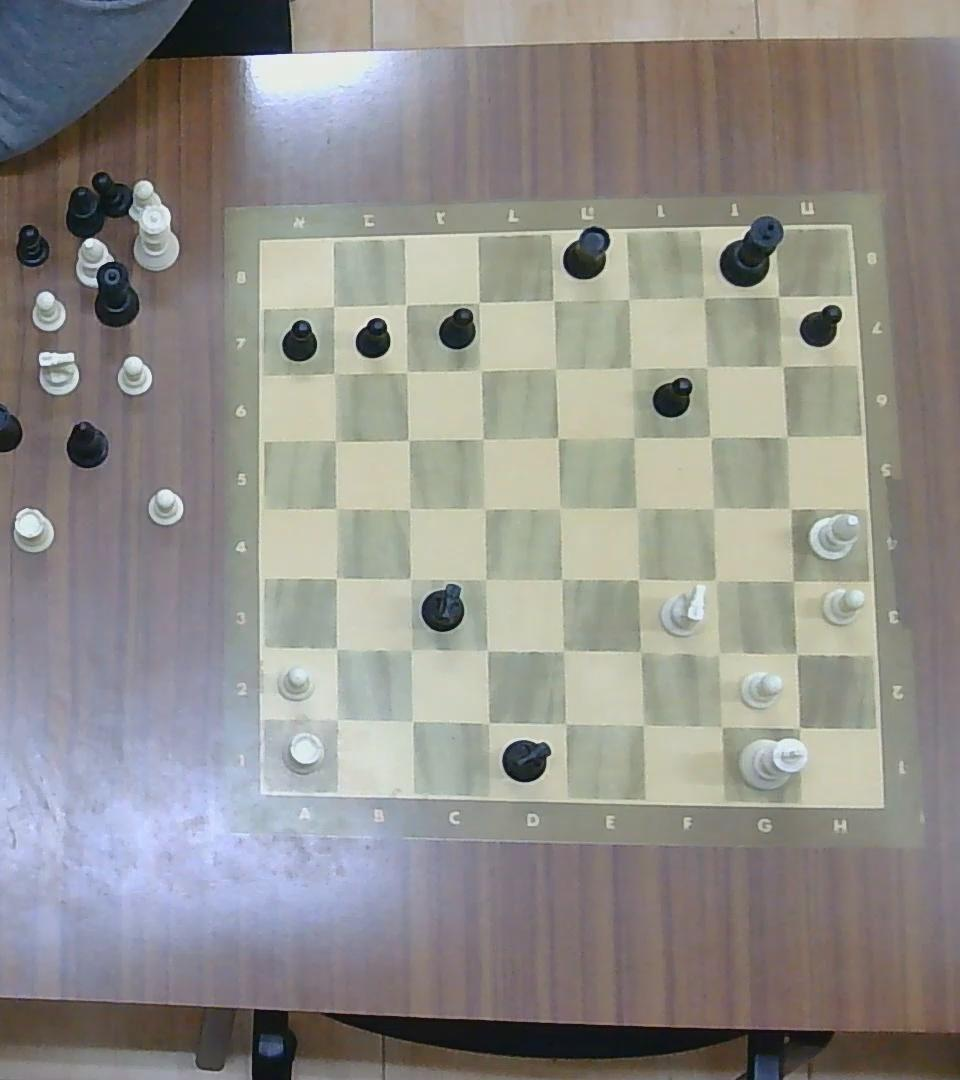xcorner: (703, 708, 737, 742), (781, 710, 815, 743), (701, 636, 735, 669), (548, 706, 580, 738), (626, 707, 658, 739), (780, 637, 812, 668), (320, 703, 351, 734), (625, 636, 656, 666), (622, 563, 652, 594), (548, 634, 578, 665), (472, 706, 502, 737), (396, 705, 427, 735), (700, 565, 730, 595), (547, 563, 576, 594), (472, 634, 501, 664), (698, 493, 728, 522), (776, 493, 806, 522), (776, 566, 807, 594), (397, 635, 426, 664), (622, 493, 651, 522), (321, 633, 350, 662), (321, 562, 350, 591), (471, 564, 500, 593), (619, 422, 648, 451), (545, 493, 573, 522), (471, 493, 499, 522), (545, 422, 573, 451), (395, 493, 423, 522), (617, 352, 645, 380), (468, 424, 495, 452), (322, 494, 350, 521), (542, 354, 570, 381), (693, 352, 721, 379), (615, 285, 643, 312), (396, 565, 423, 592), (772, 422, 800, 448), (467, 354, 493, 381), (395, 426, 423, 451), (321, 360, 349, 385), (769, 353, 797, 378), (323, 427, 349, 453), (393, 356, 419, 382), (697, 422, 723, 448), (692, 285, 718, 311), (466, 289, 491, 314), (393, 291, 418, 315), (541, 288, 566, 312), (767, 283, 791, 307), (322, 294, 345, 316)
